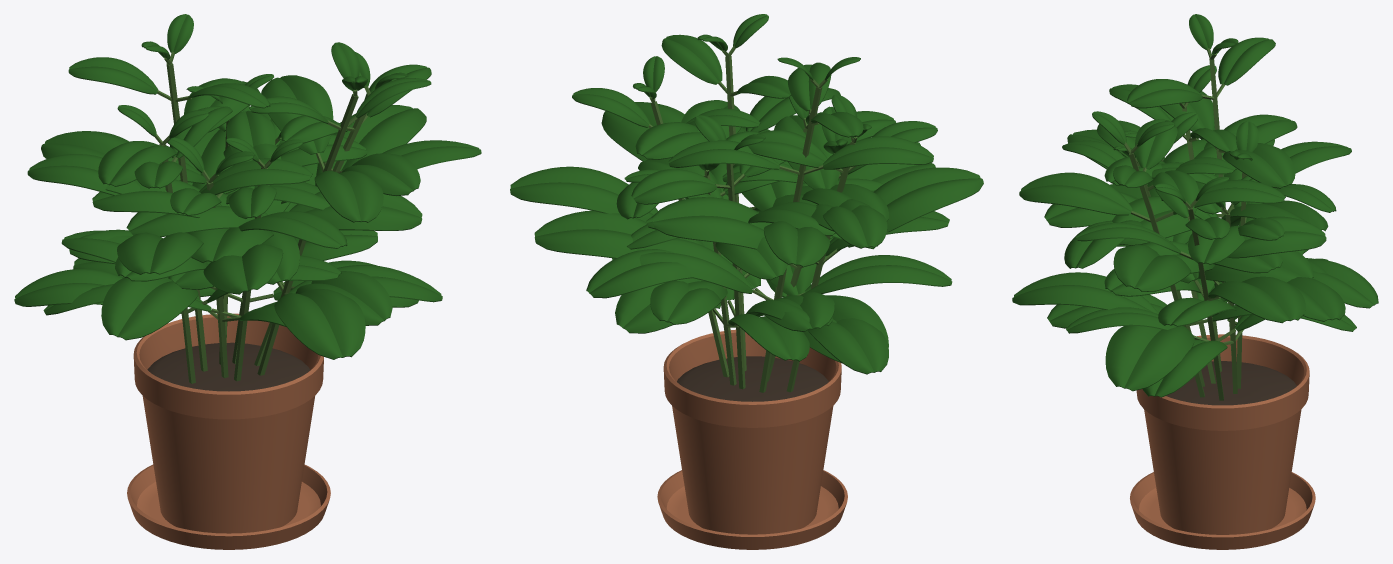
The model's file is basil.glb.
The picture shows the model from 3 angles, left to right: view 1: azimuth 30°, elevation 25°; view 2: azimuth 150°, elevation 25°; view 3: azimuth 270°, elevation 25°; orthographic projection. The views are drawn at different scales.
Parts seen in each view (by area): view 1: basil_leaves, basil_pot, basil_stems, basil_saucer, basil_compost; view 2: basil_leaves, basil_pot, basil_stems, basil_saucer, basil_compost; view 3: basil_leaves, basil_pot, basil_saucer, basil_stems, basil_compost.
Boxes of the visible parts, <box> form: basil_leaves: <box>14,14,481,359</box>; basil_pot: <box>133,313,323,533</box>; basil_stems: <box>155,51,370,383</box>; basil_saucer: <box>127,464,330,549</box>; basil_compost: <box>147,342,309,391</box>; basil_leaves: <box>510,14,983,374</box>; basil_pot: <box>663,329,841,534</box>; basil_stems: <box>648,45,857,392</box>; basil_saucer: <box>657,470,847,549</box>; basil_compost: <box>677,356,828,401</box>; basil_leaves: <box>1012,14,1378,397</box>; basil_pot: <box>1136,334,1309,534</box>; basil_saucer: <box>1130,472,1315,549</box>; basil_stems: <box>1124,48,1246,400</box>; basil_compost: <box>1166,361,1296,405</box>.
Bounding box in the file's own units: 0.2088 × 0.2502 × 0.1813.
